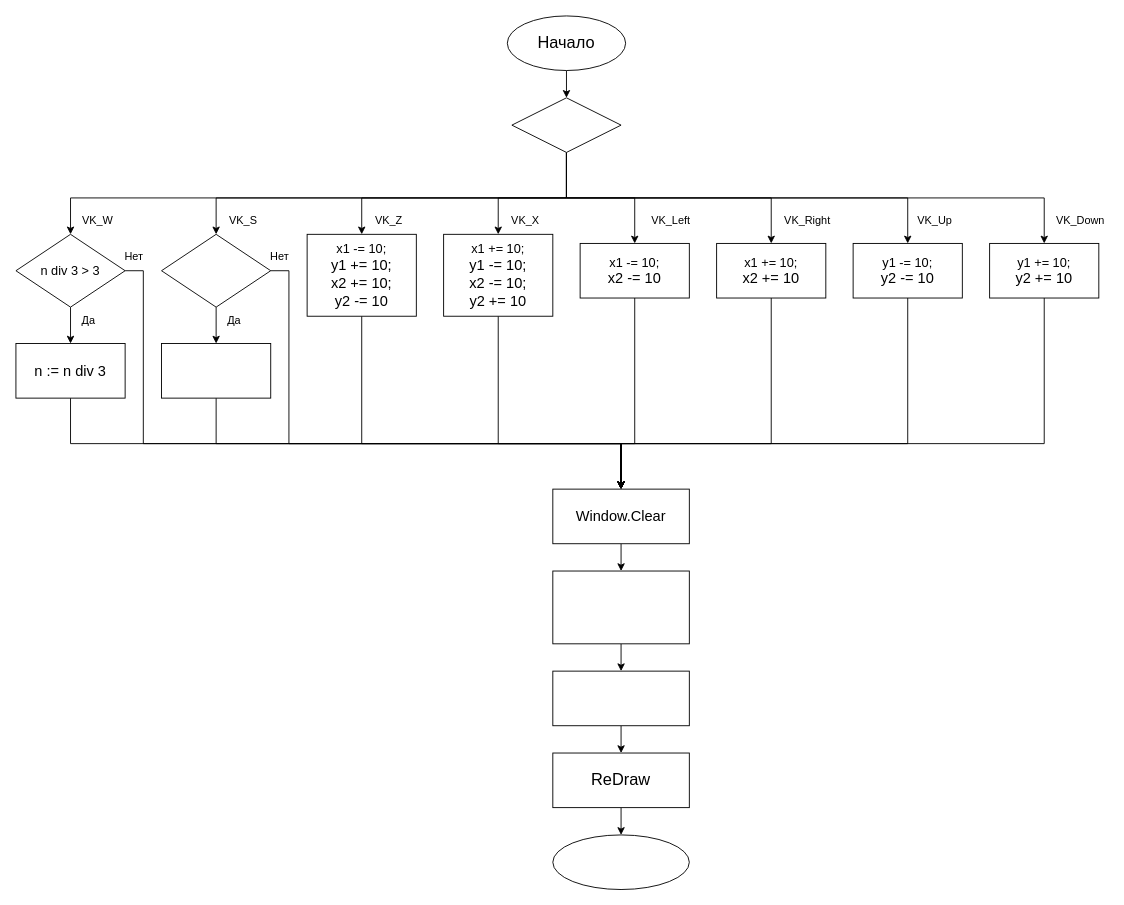
The diagram is 1124 pixels wide and 905 high, and some of its shapes have lost their labels. Here are the shapes that lost their labels. From the top down, the box of each, then its label:
(511, 97, 621, 152): key
(161, 233, 271, 307): n * 3 < x2 - x1
(161, 343, 271, 398): n := n * 3
(552, 570, 689, 644): Rectangle(Round(x1), Round(y1), Round(x2), Round(y2))
(552, 670, 689, 726): kover(x1, y1, x2, y2, n)
(552, 834, 689, 890): Конец
